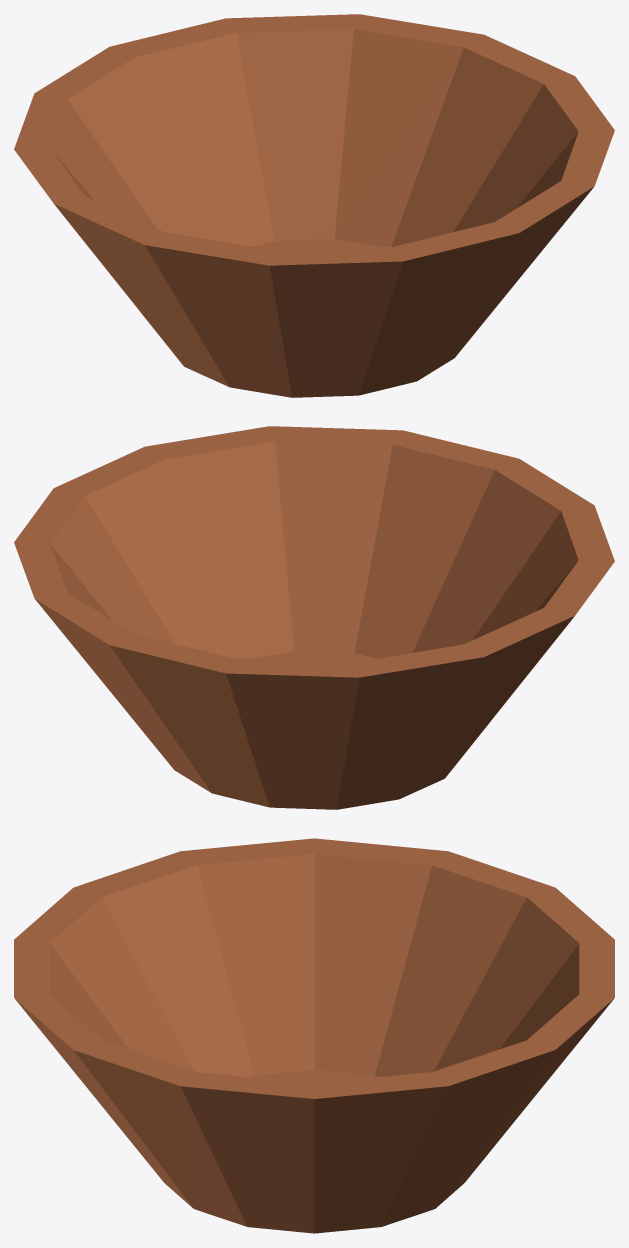
Rendered from clay_bowl.obj.
3 views of the same model, one above another, from view 1: azimuth 30°, elevation 25°; view 2: azimuth 150°, elevation 25°; view 3: azimuth 270°, elevation 25° (orthographic). The views are drawn at different scales.
Parts seen in each view (by area): view 1: clay_bowl; view 2: clay_bowl; view 3: clay_bowl.
Part boxes in pixels (x1=…): clay_bowl: x1=14, y1=14, x2=614, y2=397; clay_bowl: x1=14, y1=426, x2=614, y2=809; clay_bowl: x1=14, y1=838, x2=614, y2=1233.
Bounding box in the file's own units: 0.14 × 0.05 × 0.1364.
